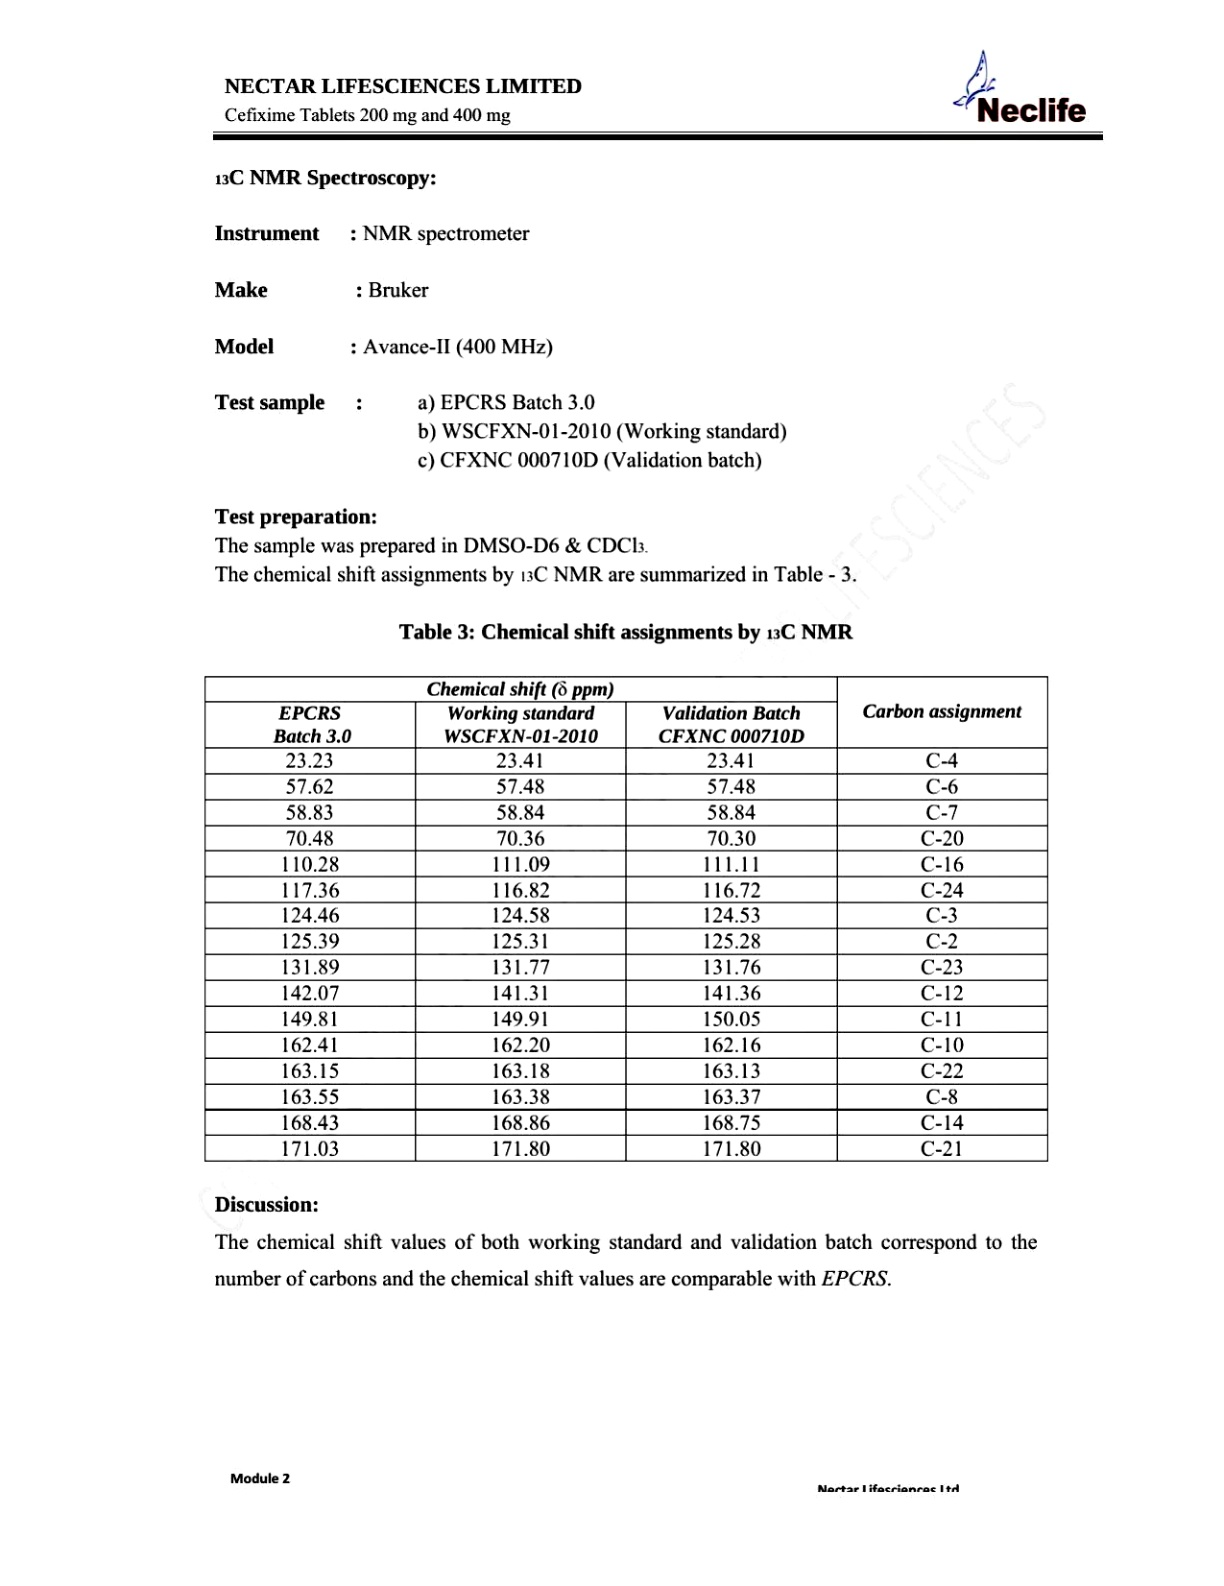merged_cells: (203, 673, 1050, 1164)
nolines: (210, 217, 789, 473)
